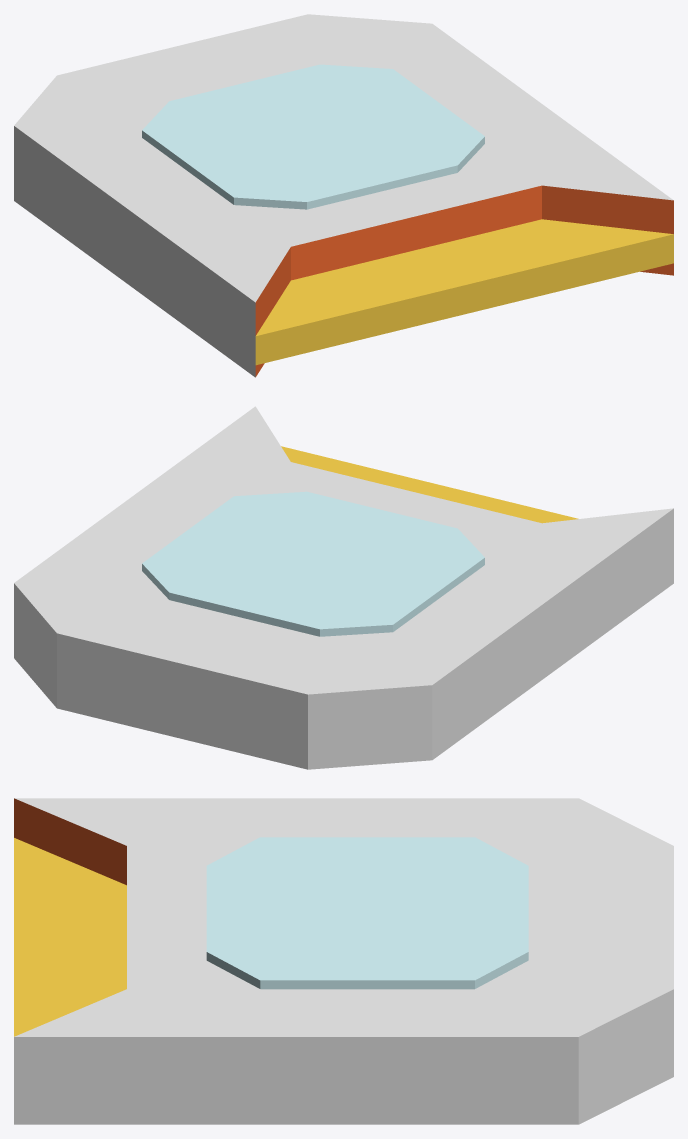
File: Upgrade_Oxygen_03.fbx
3 views of the same model, one above another, from view 1: azimuth 30°, elevation 25°; view 2: azimuth 150°, elevation 25°; view 3: azimuth 270°, elevation 25° (orthographic). The views are drawn at different scales.
Visible parts, largest first — view 1: Cube.001; view 2: Cube.001; view 3: Cube.001.
Part boxes in pixels (x1=…): Cube.001: x1=14, y1=14, x2=673, y2=377; Cube.001: x1=14, y1=406, x2=673, y2=769; Cube.001: x1=14, y1=798, x2=673, y2=1124.
Bounding box in the file's own units: 86.17 × 17.74 × 101.
